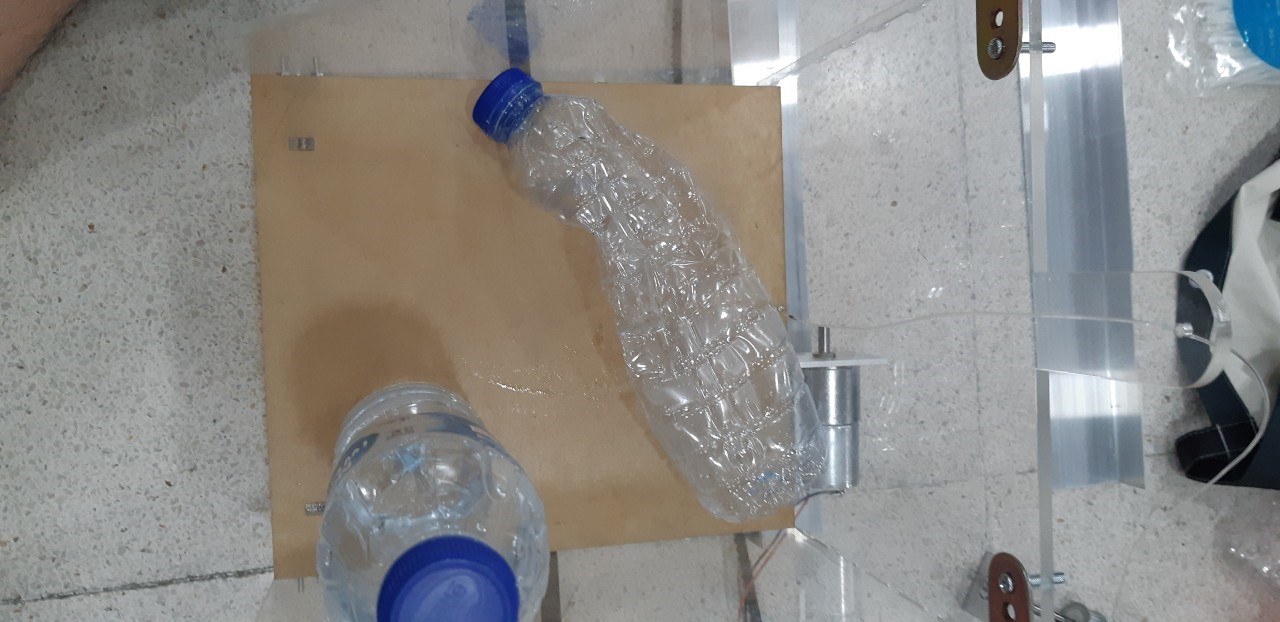PlasticBottle: (472, 71, 826, 520), (313, 382, 548, 622)
